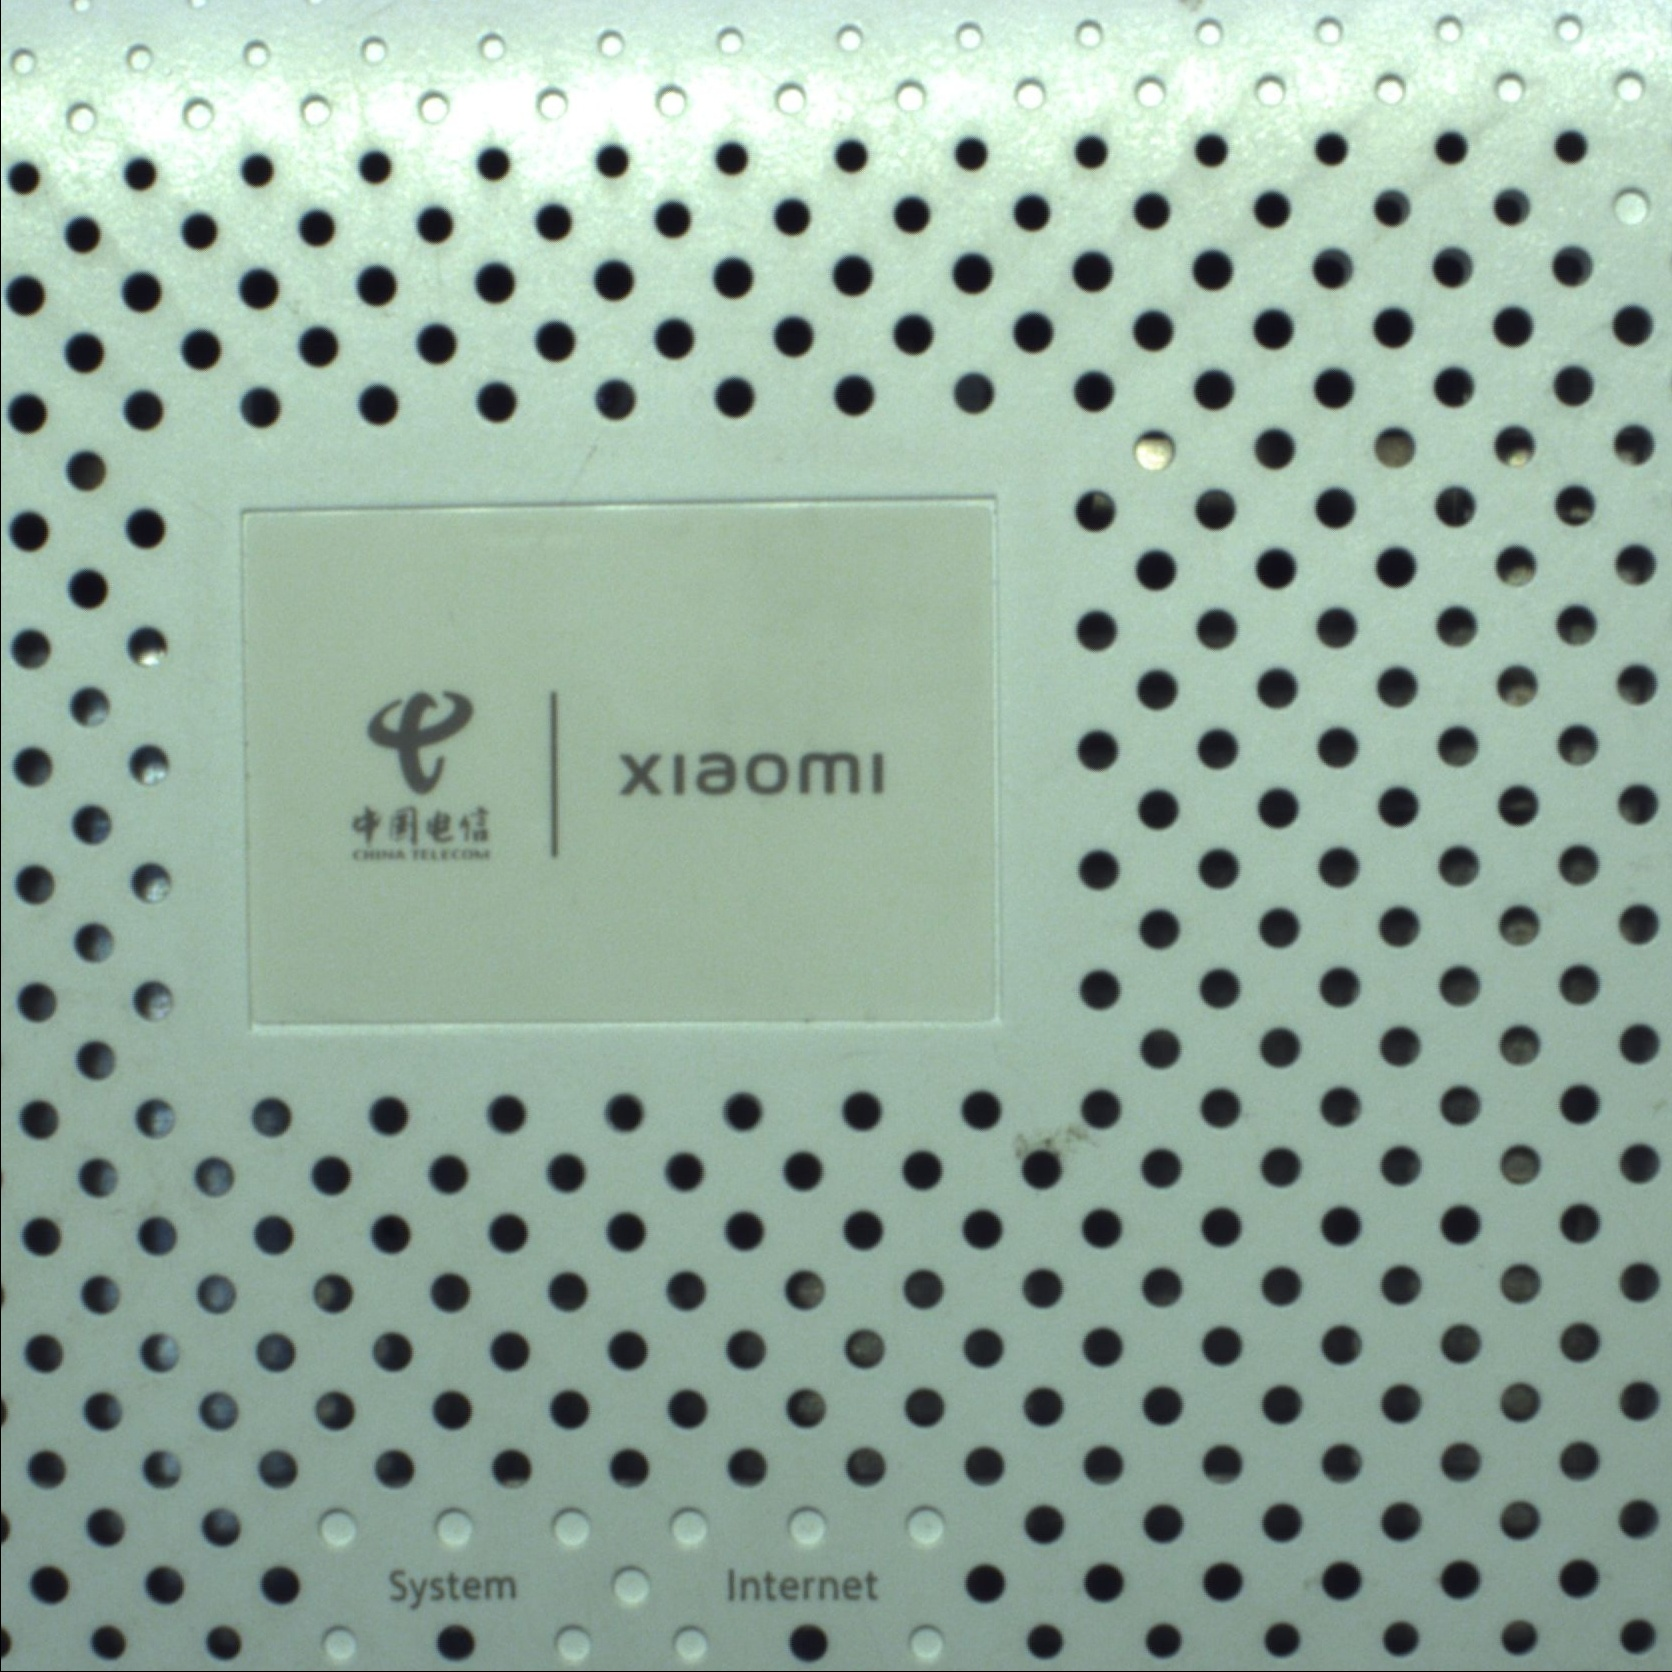MAA_Telecom: (317, 687, 909, 880)
